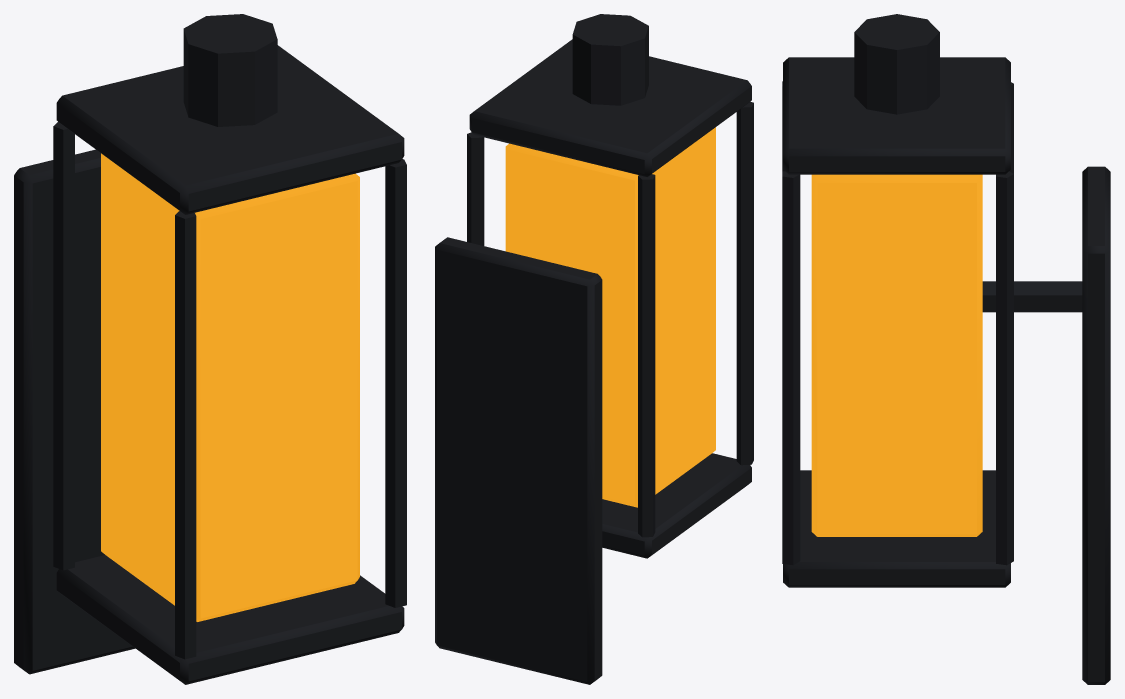
Rendered from sconce_lantern_sconce.glb.
The picture shows the model from 3 angles, left to right: view 1: azimuth 30°, elevation 25°; view 2: azimuth 150°, elevation 25°; view 3: azimuth 270°, elevation 25°; orthographic projection. The views are drawn at different scales.
Parts seen in each view (by area): view 1: sconce_lantern_sconce; view 2: sconce_lantern_sconce; view 3: sconce_lantern_sconce.
Part boxes in pixels (x1,y1,x2,y2): sconce_lantern_sconce: (14,14,406,684); sconce_lantern_sconce: (435,14,753,684); sconce_lantern_sconce: (782,14,1110,684).
Size of the model in its own units: 0.1633 by 0.475 by 0.2307.
